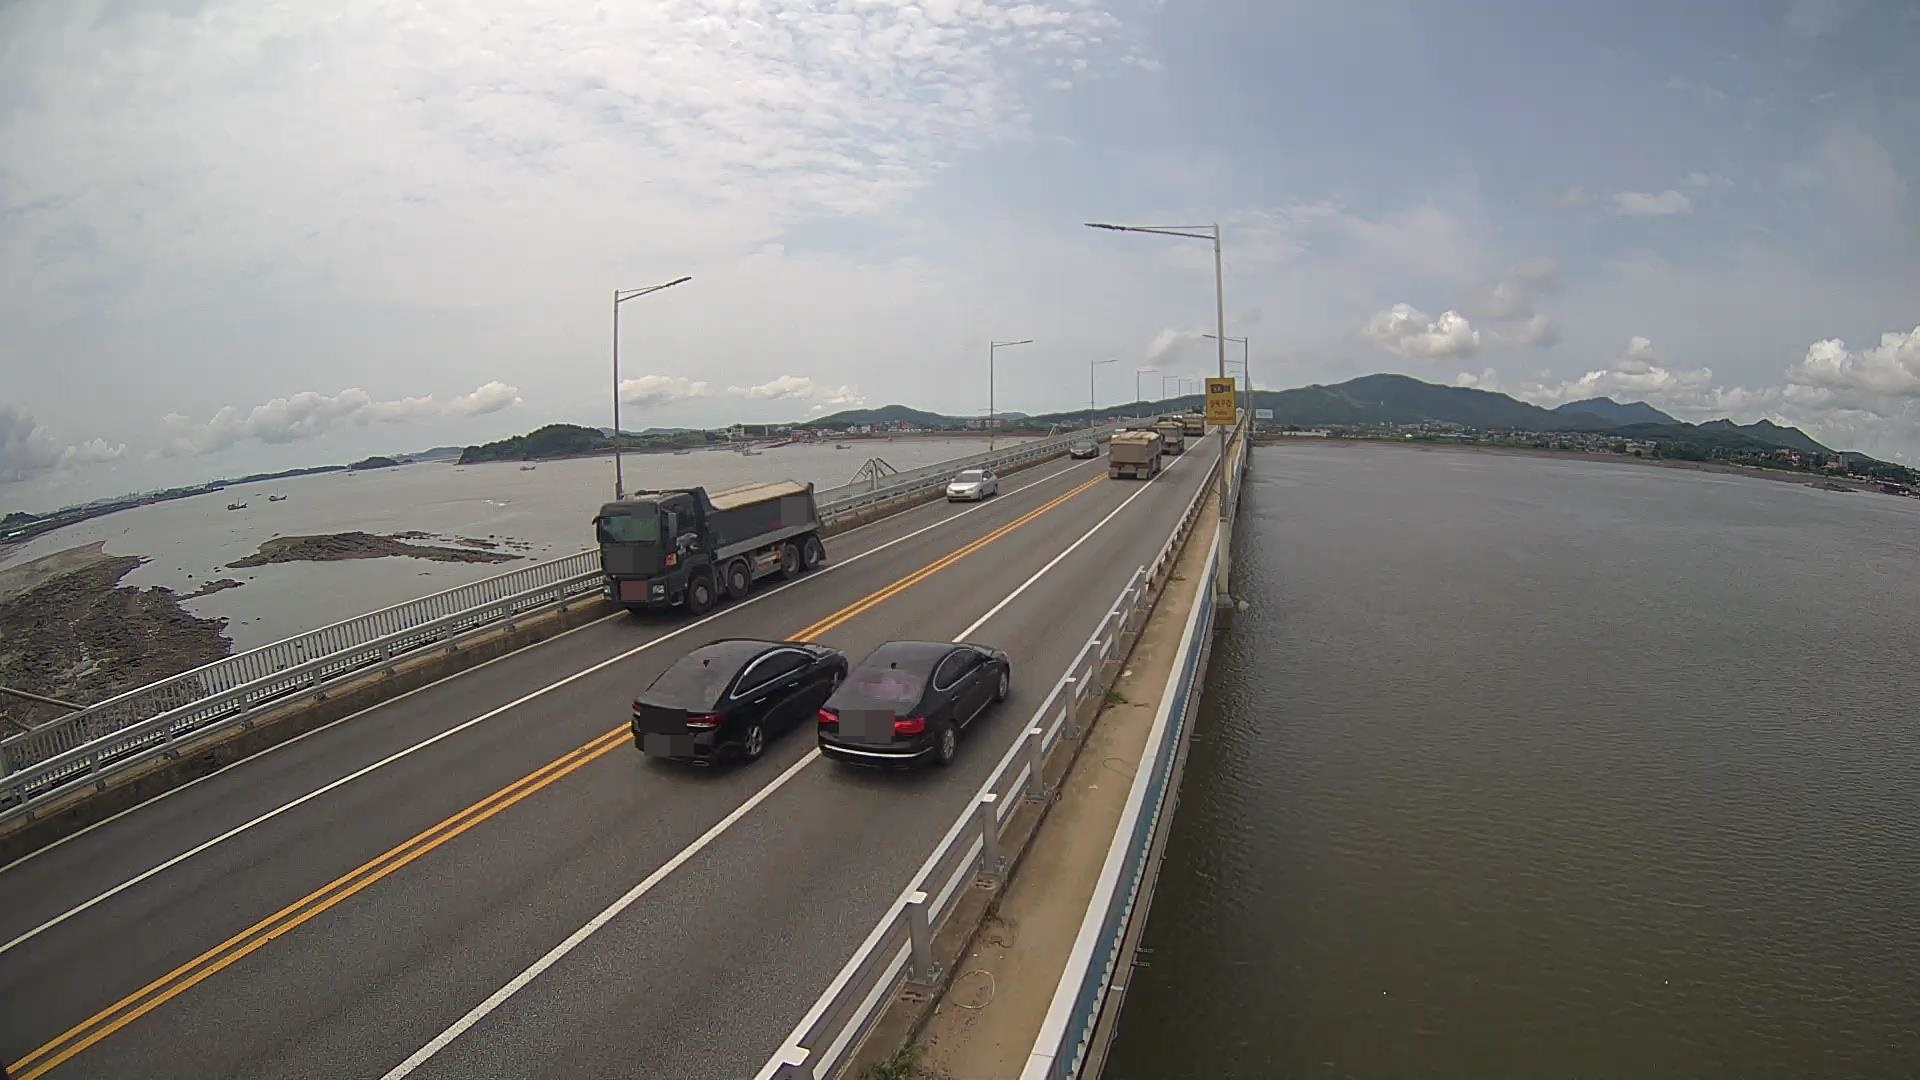정상차량: (592, 480, 827, 613)
